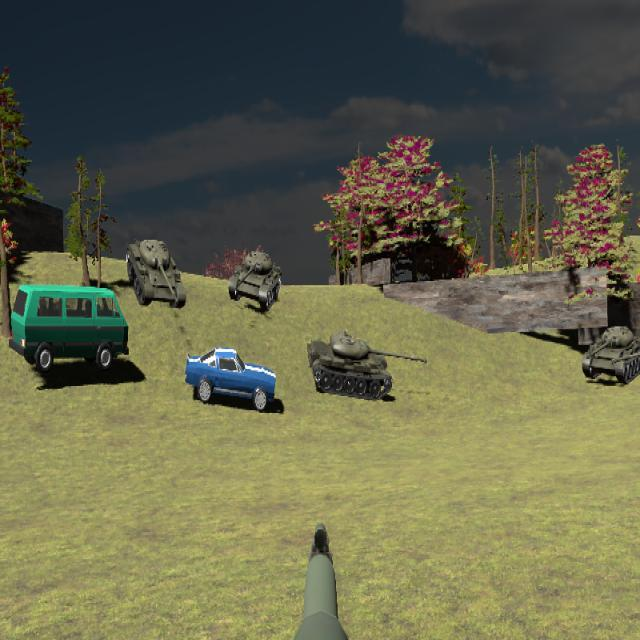Tank: (307, 329, 427, 402), (127, 239, 186, 310), (582, 325, 640, 385), (228, 250, 281, 313)
car: (9, 284, 129, 375), (184, 345, 277, 413)
